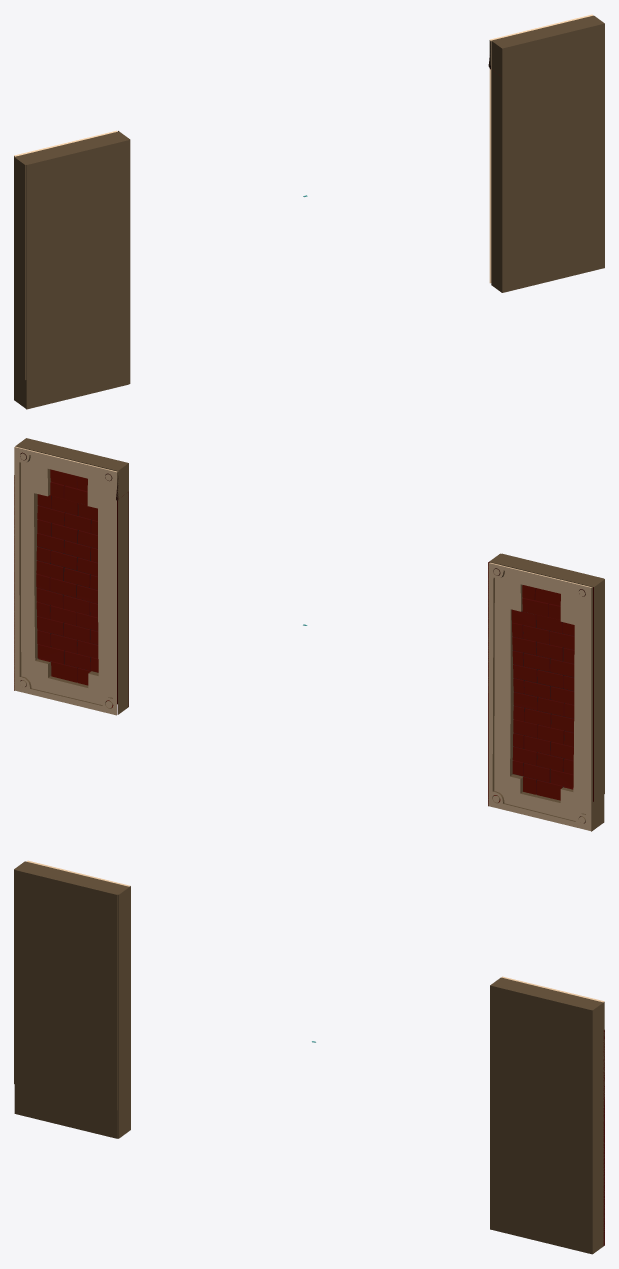
The model's file is BlueDoor.fbx.
The picture shows the model from 3 angles, top to bottom: view 1: azimuth 30°, elevation 25°; view 2: azimuth 150°, elevation 25°; view 3: azimuth 330°, elevation 25°; orthographic projection.
Parts seen in each view (by area): view 1: Bloques; view 2: Bloques; view 3: Bloques.
Boxes of the visible parts, bbox=[...] form: Bloques: bbox=[14, 14, 604, 409]; Bloques: bbox=[14, 438, 604, 831]; Bloques: bbox=[14, 860, 604, 1254].
Bounding box in the file's own units: 1128 × 455 × 46.75.
